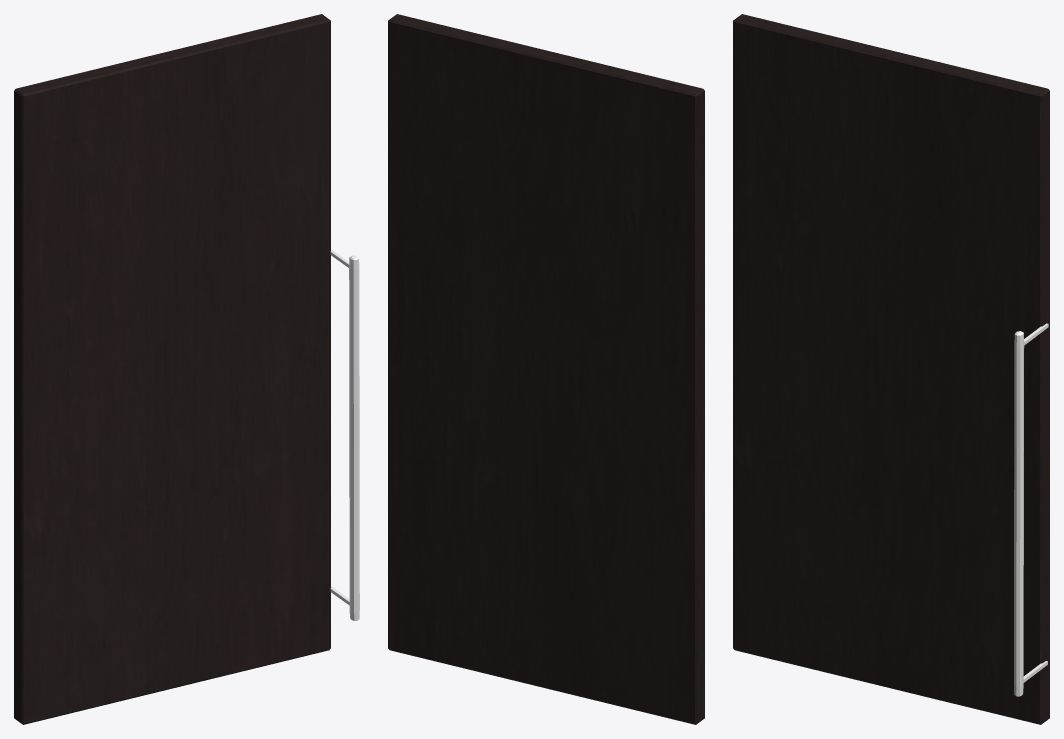
File: Cabinet_eaf65aa0.obj
3 views of the same model, side by side, from view 1: azimuth 30°, elevation 25°; view 2: azimuth 150°, elevation 25°; view 3: azimuth 330°, elevation 25° (orthographic).
Parts seen in each view (by area): view 1: CabinetDoorMesh_01_26f75157, CabineDoorHandle1_(4)_01_da6f69dc; view 2: CabinetDoorMesh_01_26f75157; view 3: CabinetDoorMesh_01_26f75157, CabineDoorHandle1_(4)_01_da6f69dc.
Boxes of the visible parts, <box> form: CabinetDoorMesh_01_26f75157: <box>14,14,330,724</box>; CabineDoorHandle1_(4)_01_da6f69dc: <box>330,249,359,620</box>; CabinetDoorMesh_01_26f75157: <box>388,14,704,724</box>; CabinetDoorMesh_01_26f75157: <box>733,14,1049,724</box>; CabineDoorHandle1_(4)_01_da6f69dc: <box>1014,323,1048,696</box>.
Bounding box in the file's own units: 0.3899 × 0.75 × 0.0751.
